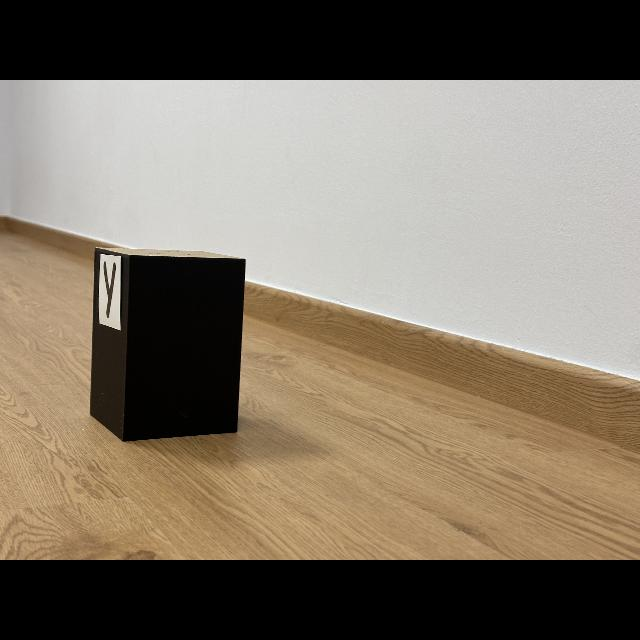Y: (102, 261, 116, 318)
